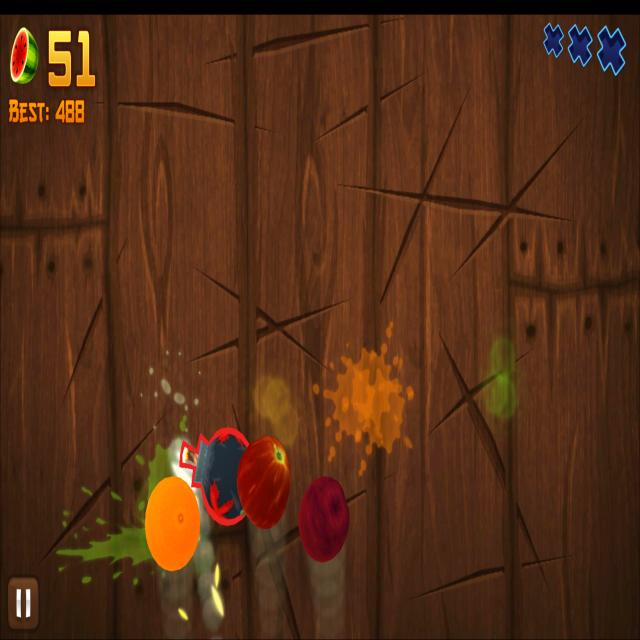bomb: (178, 426, 250, 526)
fruit: (144, 474, 202, 573), (236, 434, 290, 531), (298, 474, 350, 564)
